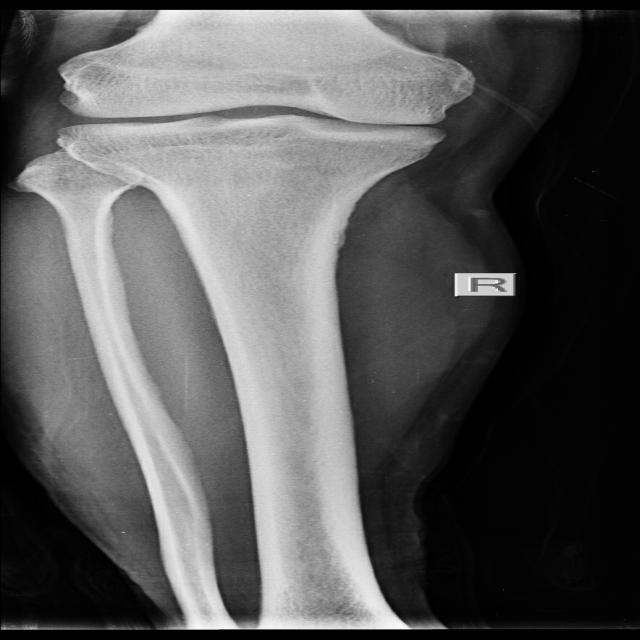normal: (70, 45, 478, 162)
